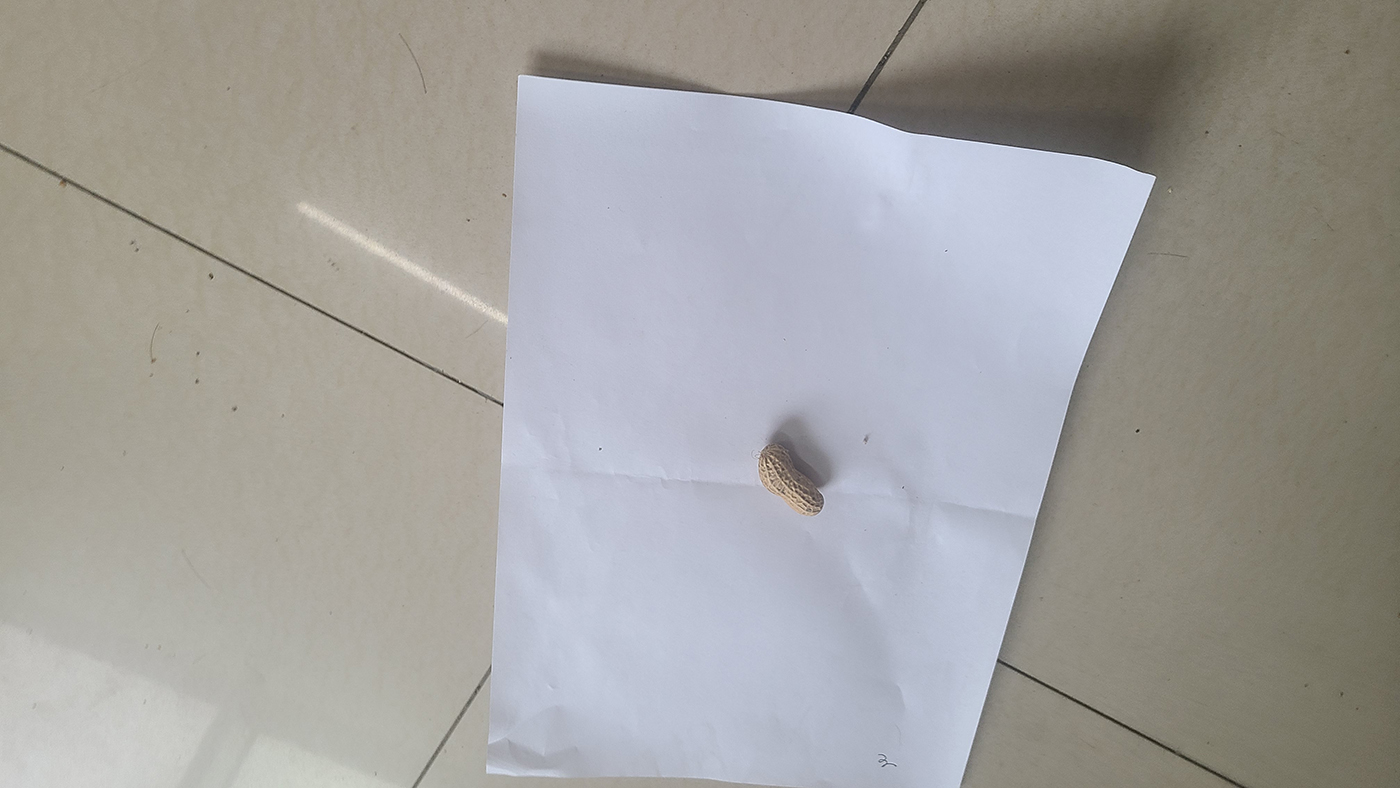h: (758, 442, 824, 515)
